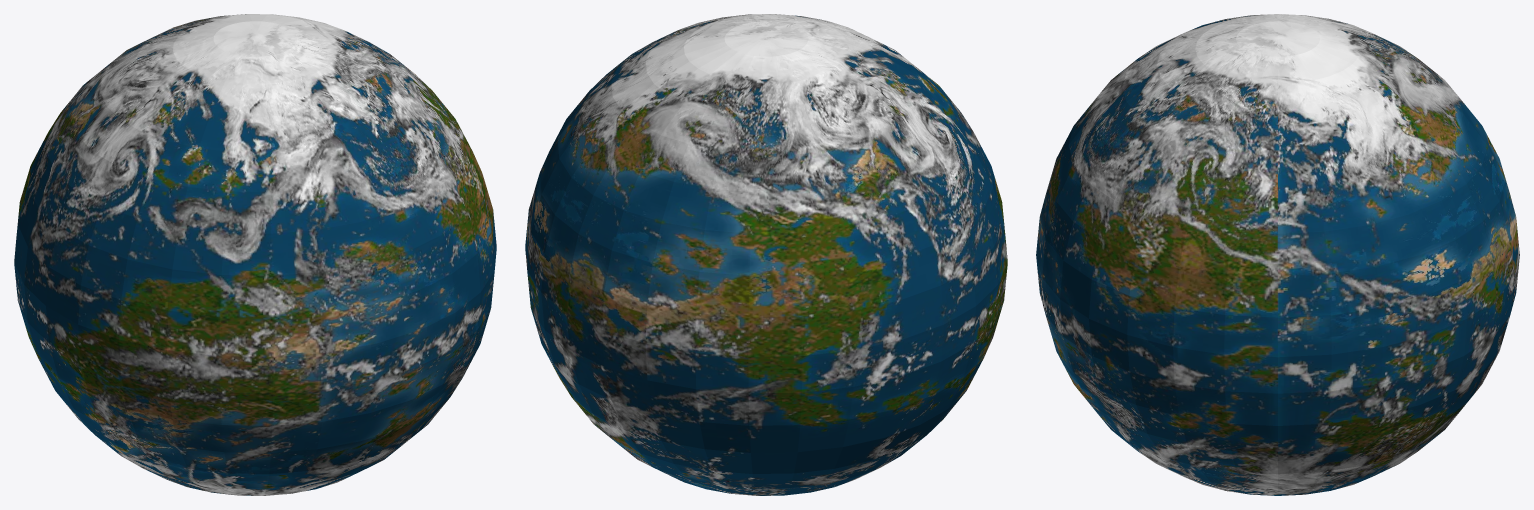
File: pleasure.glb
3 views of the same model, side by side, from view 1: azimuth 30°, elevation 25°; view 2: azimuth 150°, elevation 25°; view 3: azimuth 270°, elevation 25° (orthographic).
Parts seen in each view (by area): view 1: pleasure_sphere.obj; view 2: pleasure_sphere.obj; view 3: pleasure_sphere.obj.
Part boxes in pixels (x1=…): pleasure_sphere.obj: x1=14, y1=14, x2=496, y2=495; pleasure_sphere.obj: x1=525, y1=14, x2=1007, y2=495; pleasure_sphere.obj: x1=1036, y1=14, x2=1519, y2=495.
Bounding box in the file's own units: 2 × 2 × 2.
1 material, 1 textured.
